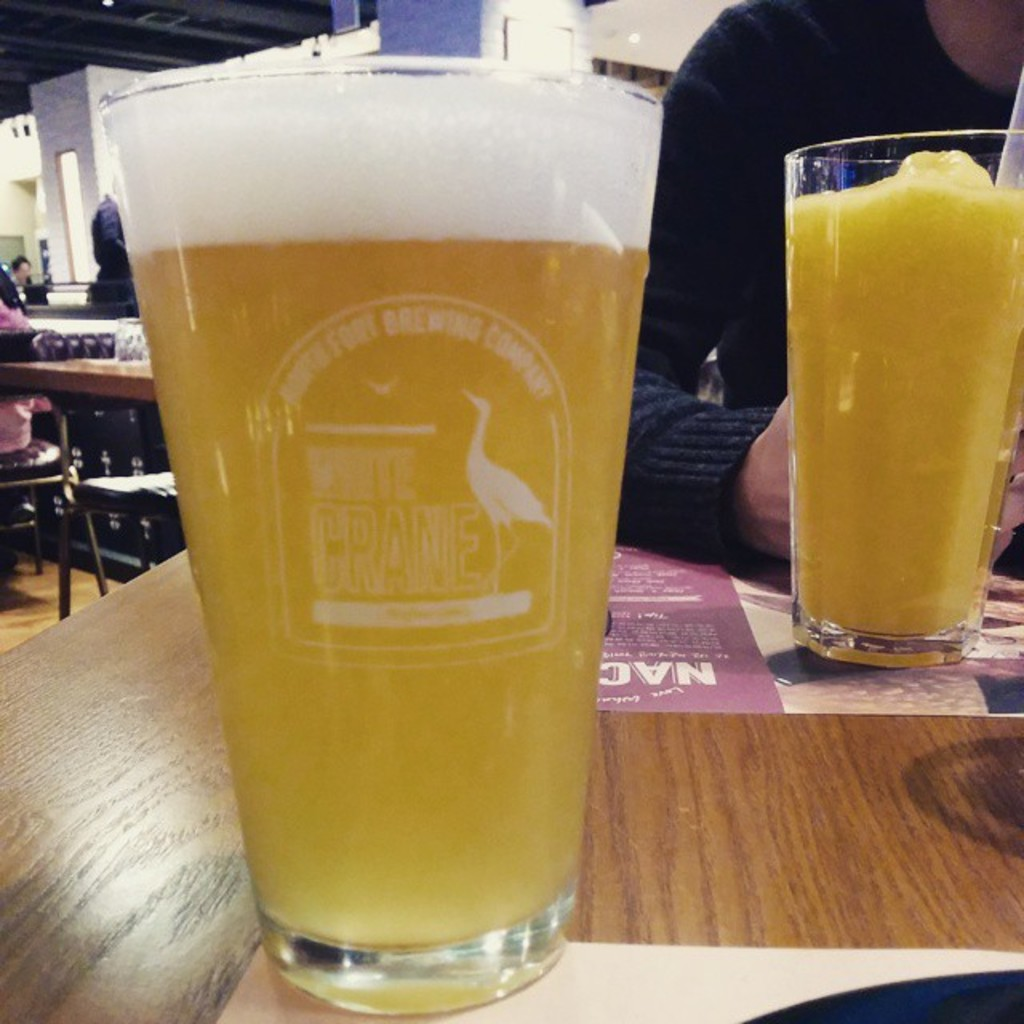Beer: (123, 51, 654, 1020), (790, 155, 1022, 651)
